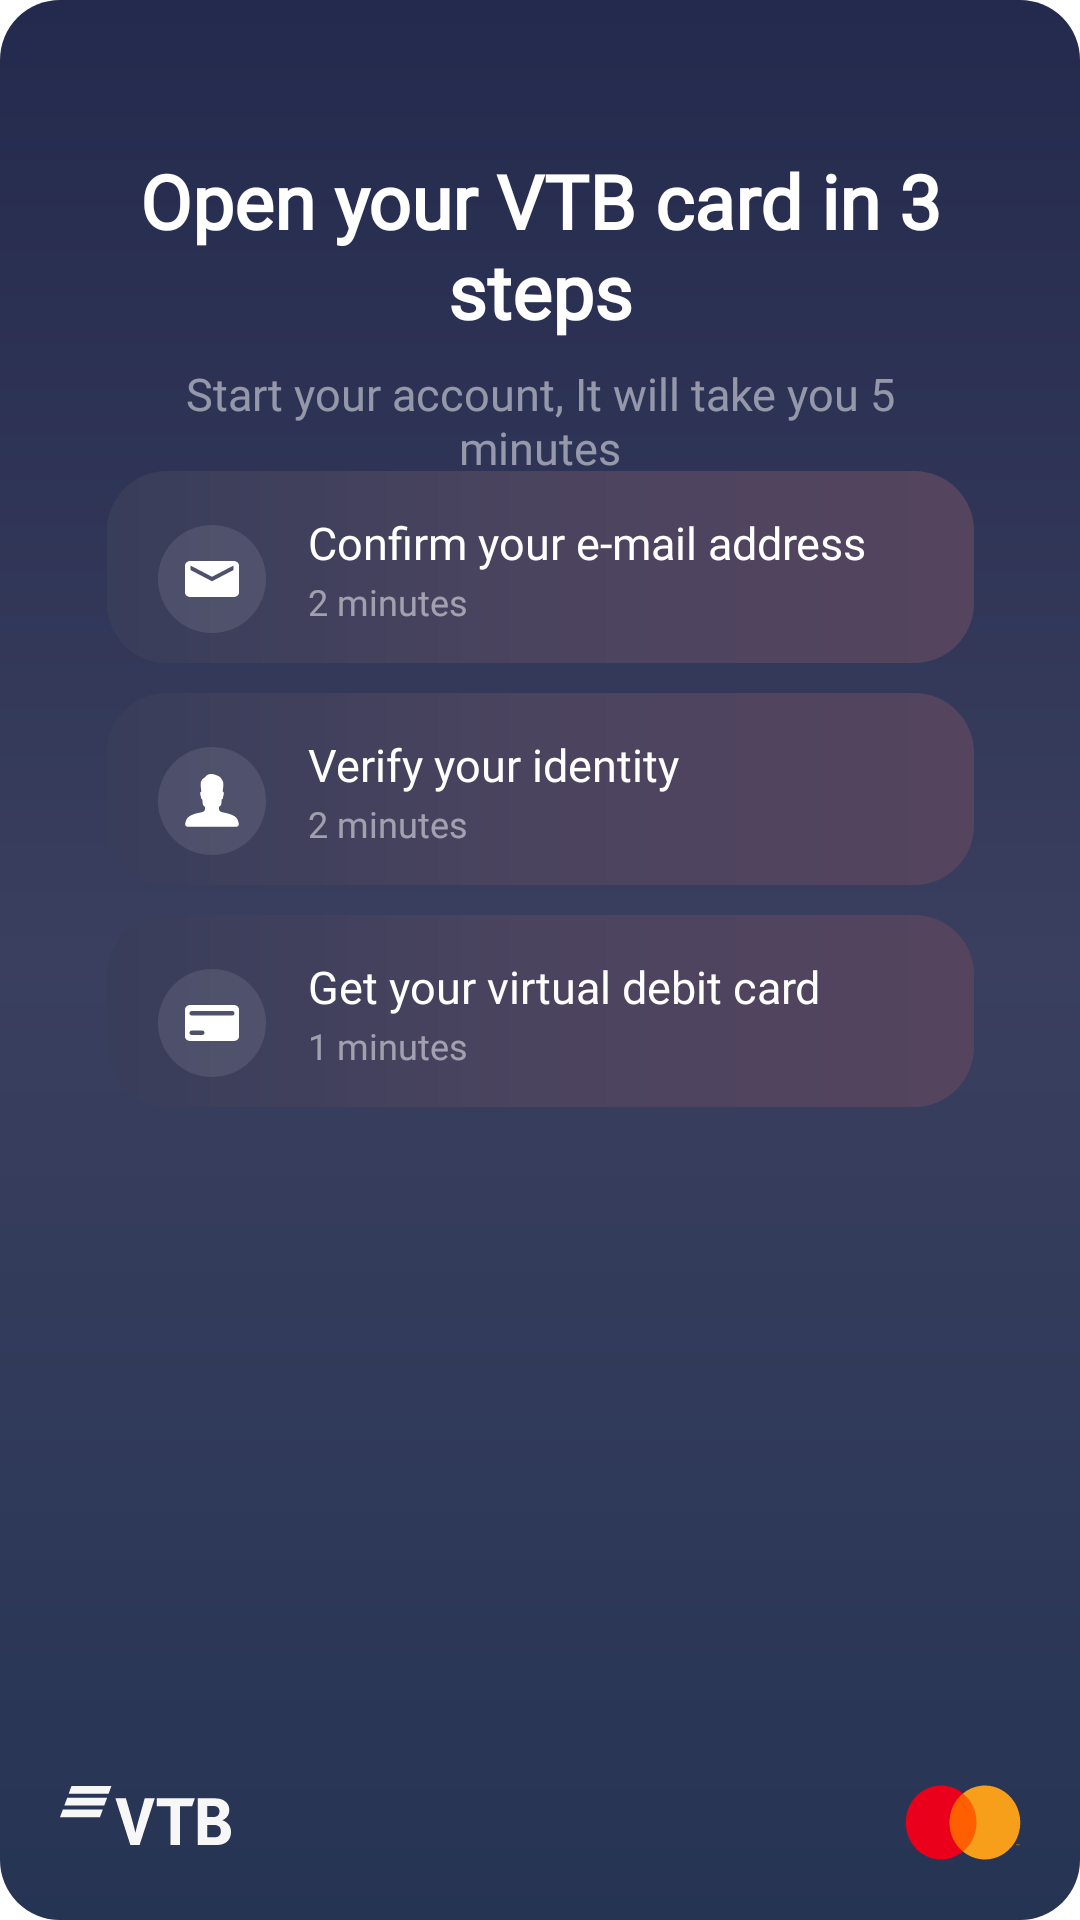

Icons on this 1080w x 1920h Android screen, each with the point to tap as point (x, y):
person: point (212, 800)
